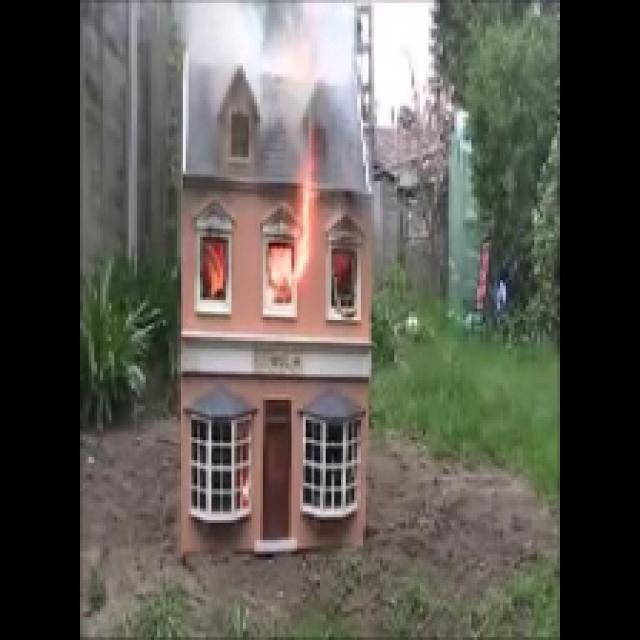Fire: (272, 165, 316, 292)
Smoke: (260, 44, 336, 122)
